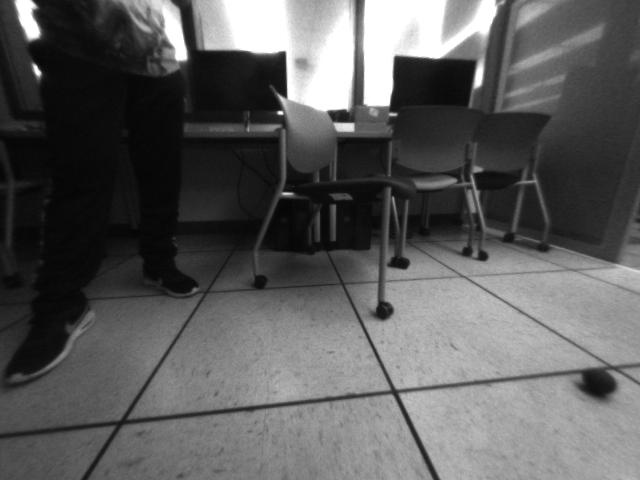dogtoy: (576, 357, 623, 406)
